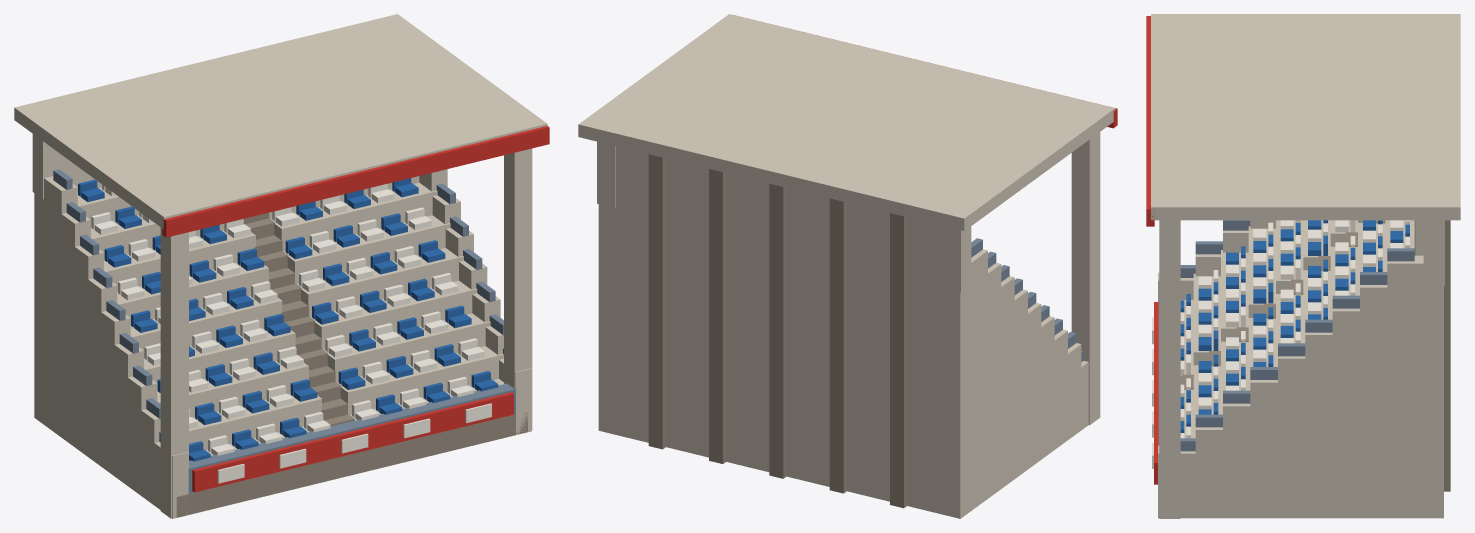
The model's file is grandStandCovered.glb.
The picture shows the model from 3 angles, left to right: view 1: azimuth 30°, elevation 25°; view 2: azimuth 150°, elevation 25°; view 3: azimuth 270°, elevation 25°; orthographic projection. The views are drawn at different scales.
Parts seen in each view (by area): view 1: grandStandCovered_concrete, grandStandCovered_white, grandStandCovered_blue, grandStandCovered_red, grandStandCovered_concreteDark, grandStandCovered_steel; view 2: grandStandCovered_concrete, grandStandCovered_concreteDark, grandStandCovered_steel; view 3: grandStandCovered_concrete, grandStandCovered_white, grandStandCovered_blue, grandStandCovered_steel, grandStandCovered_concreteDark, grandStandCovered_red.
Part boxes in pixels (<box>): grandStandCovered_concrete: <box>14,14,547,518</box>; grandStandCovered_white: <box>91,184,491,483</box>; grandStandCovered_blue: <box>78,178,498,461</box>; grandStandCovered_red: <box>162,126,549,492</box>; grandStandCovered_concreteDark: <box>176,212,527,517</box>; grandStandCovered_steel: <box>53,169,515,493</box>; grandStandCovered_concrete: <box>578,14,1115,518</box>; grandStandCovered_concreteDark: <box>648,154,907,508</box>; grandStandCovered_steel: <box>971,238,1083,361</box>; grandStandCovered_concrete: <box>1151,14,1460,518</box>; grandStandCovered_white: <box>1152,220,1409,468</box>; grandStandCovered_blue: <box>1180,220,1409,432</box>; grandStandCovered_steel: <box>1158,220,1414,451</box>; grandStandCovered_concreteDark: <box>1181,220,1450,491</box>; grandStandCovered_red: <box>1146,16,1158,484</box>.
Size of the model in its own units: 19.2 by 14.7 by 13.2.
